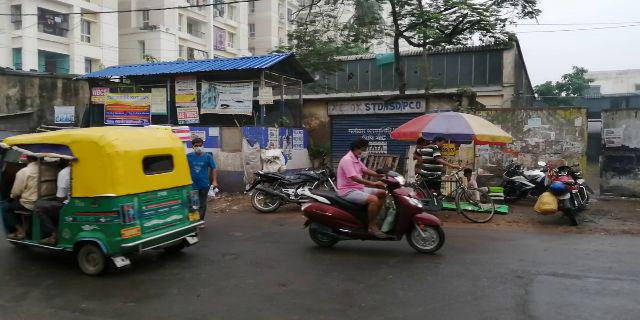Autorickshaw: (1, 123, 199, 274)
Motorbike: (296, 136, 446, 254)
